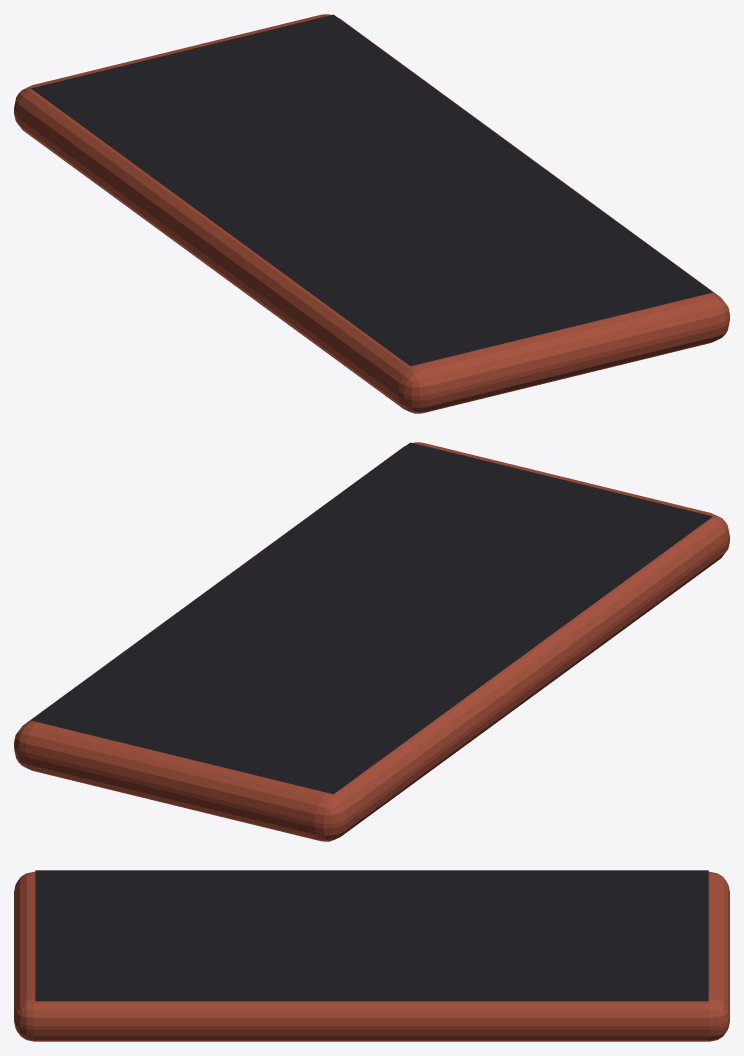
Rendered from oppo-a-model-344-mid-range-2021.glb.
The picture shows the model from 3 angles, top to bottom: view 1: azimuth 30°, elevation 25°; view 2: azimuth 150°, elevation 25°; view 3: azimuth 270°, elevation 25°; orthographic projection. The views are drawn at different scales.
Visible parts, largest first — view 1: Phone_Screen, Phone_Body; view 2: Phone_Screen, Phone_Body; view 3: Phone_Screen, Phone_Body.
Part boxes in pixels (box(x1,y1,x2,y2)): Phone_Screen: box(31, 14, 712, 366); Phone_Body: box(14, 14, 729, 413); Phone_Screen: box(31, 442, 712, 794); Phone_Body: box(14, 442, 729, 841); Phone_Screen: box(35, 870, 708, 1001); Phone_Body: box(14, 871, 729, 1041).
Size of the model in its own units: 0.0746 by 0.0101 by 0.1585.
